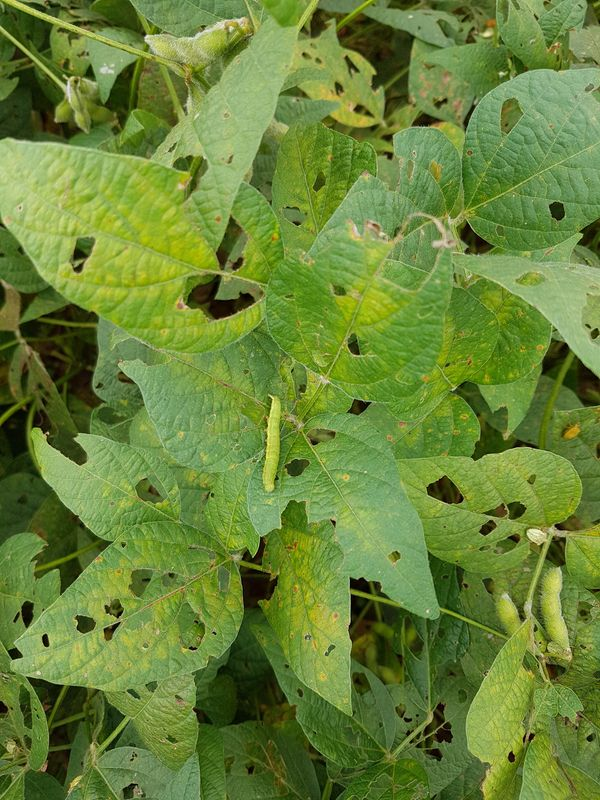Anticarsia_gemmatalis: (241, 389, 309, 499)
Euschistus_heros_ninfa: (520, 523, 552, 552), (557, 418, 586, 447)
